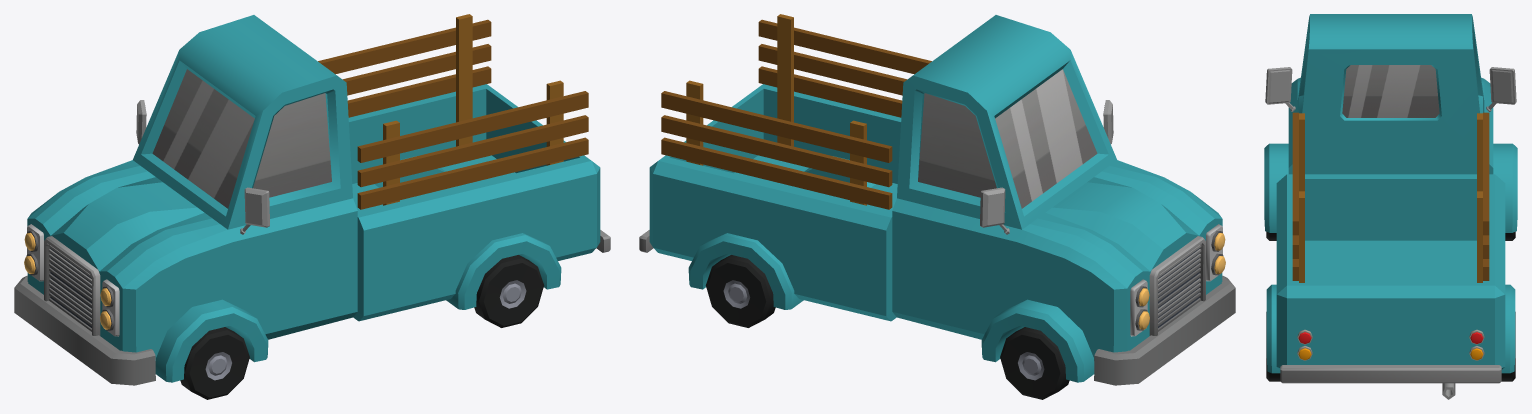
File: Car_12_Q.gltf
The picture shows the model from 3 angles, left to right: view 1: azimuth 30°, elevation 25°; view 2: azimuth 150°, elevation 25°; view 3: azimuth 270°, elevation 25°; orthographic projection. The views are drawn at different scales.
Visible parts, largest first — view 1: Car_12_Q, RL, FL; view 2: Car_12_Q, RR, FR; view 3: Car_12_Q.
Boxes of the visible parts, box(x1,y1,x2,y2) form: Car_12_Q: box(14, 14, 610, 385); RL: box(474, 255, 544, 327); FL: box(180, 327, 249, 399); Car_12_Q: box(639, 14, 1235, 385); RR: box(705, 255, 775, 327); FR: box(1000, 327, 1069, 399); Car_12_Q: box(1264, 14, 1517, 399).
Size of the model in its own units: 3.82 by 2.01 by 1.73.
Materials: 4 (4 with a texture image).
